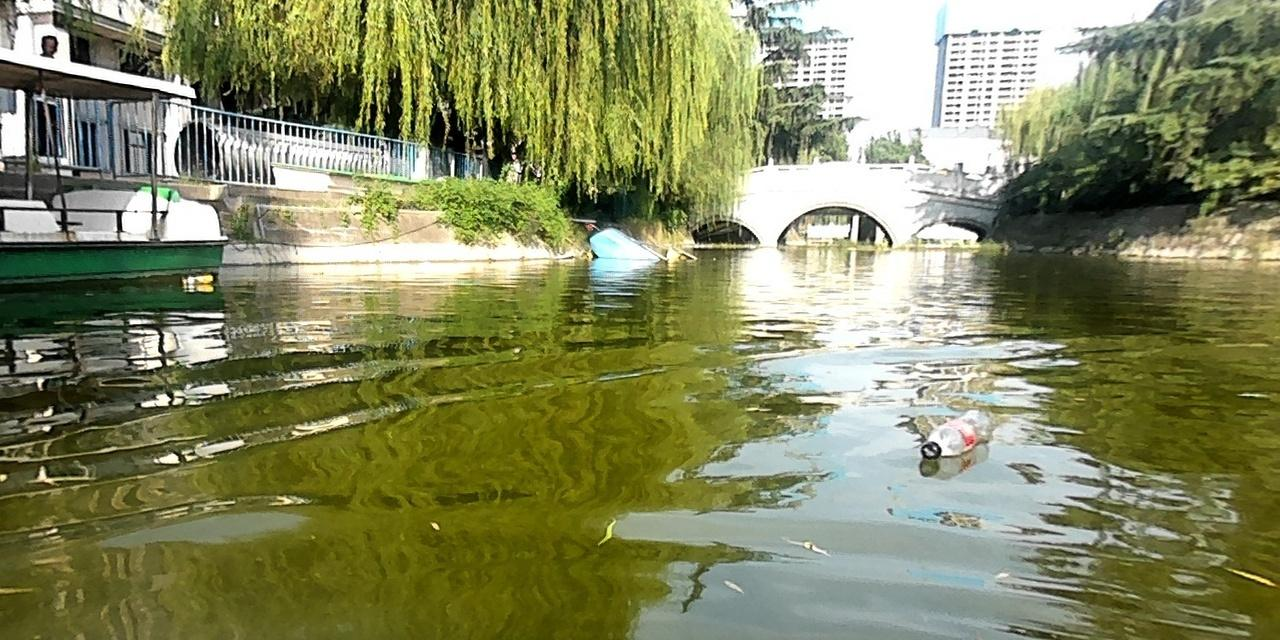bottle: (917, 405, 991, 460), (177, 270, 216, 288)
